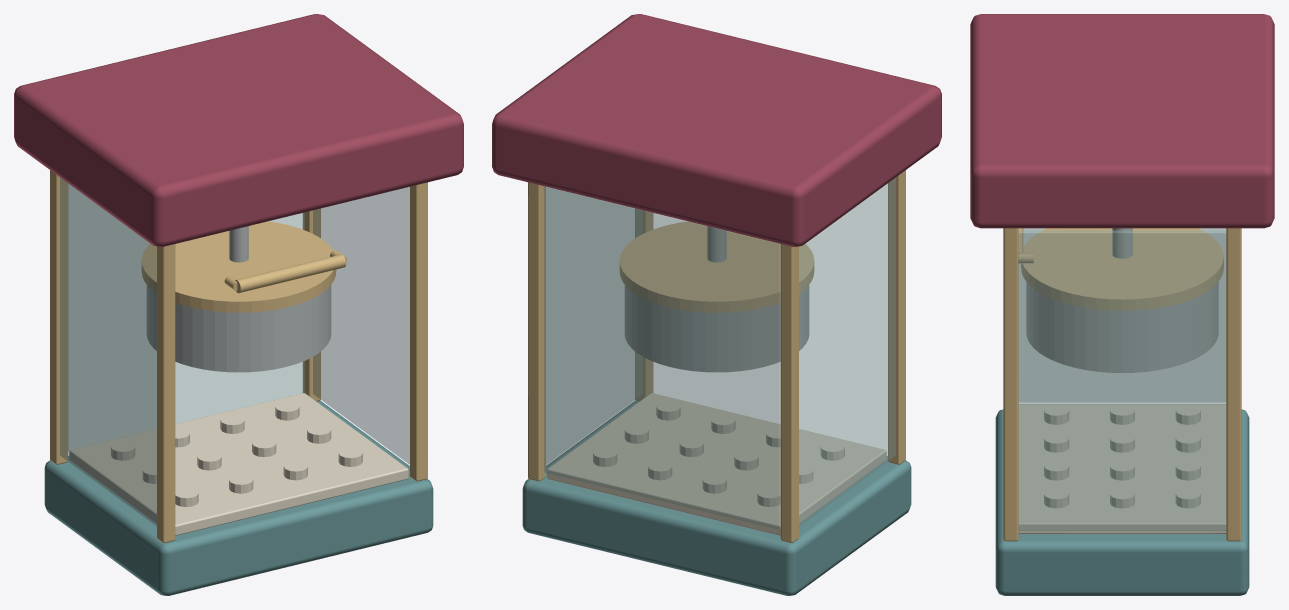
File: popcorn-machine.glb
The picture shows the model from 3 angles, left to right: view 1: azimuth 30°, elevation 25°; view 2: azimuth 150°, elevation 25°; view 3: azimuth 270°, elevation 25°; orthographic projection. The views are drawn at different scales.
Visible parts, largest first — view 1: abandoned-cinema-and-projection-booth-popcorn-machine; view 2: abandoned-cinema-and-projection-booth-popcorn-machine; view 3: abandoned-cinema-and-projection-booth-popcorn-machine.
Part boxes in pixels (x1,y1,x2,y2): abandoned-cinema-and-projection-booth-popcorn-machine: (14, 14, 463, 595); abandoned-cinema-and-projection-booth-popcorn-machine: (492, 14, 941, 595); abandoned-cinema-and-projection-booth-popcorn-machine: (970, 14, 1274, 595).
Bounding box in the file's own units: 0.74 × 0.96 × 0.6.
